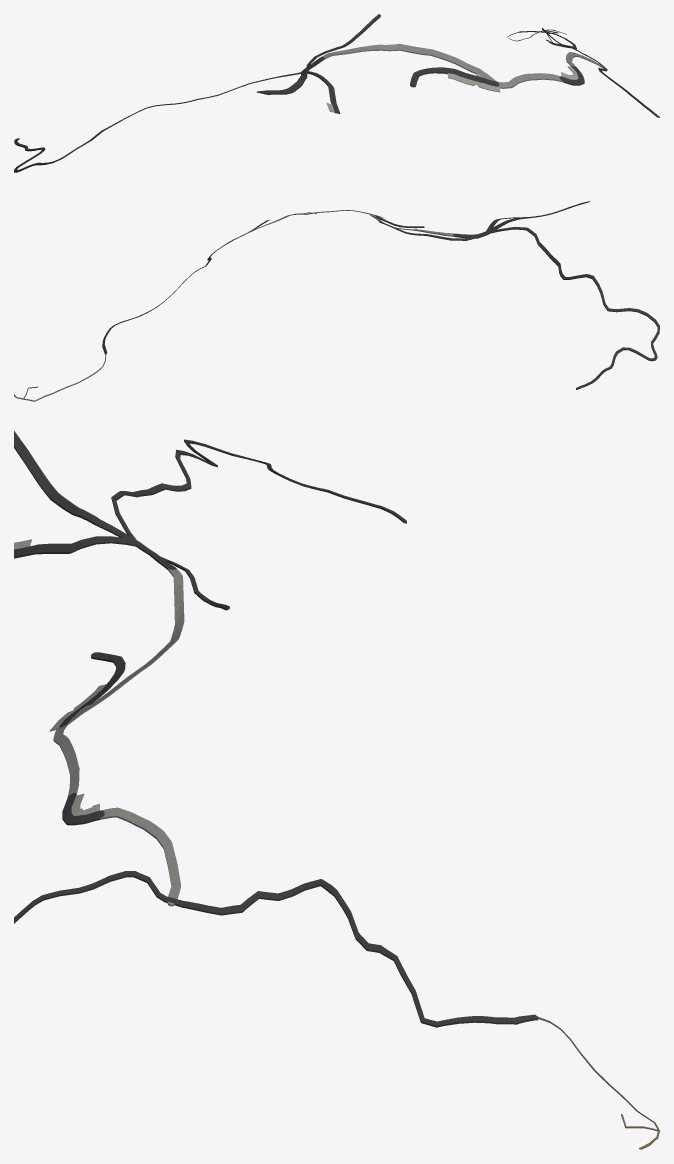
The picture shows the model from 3 angles, top to bottom: view 1: azimuth 30°, elevation 25°; view 2: azimuth 150°, elevation 25°; view 3: azimuth 270°, elevation 25°; orthographic projection. The views are drawn at different scales.
Size of the model in its own units: 792 by 244 by 427.
